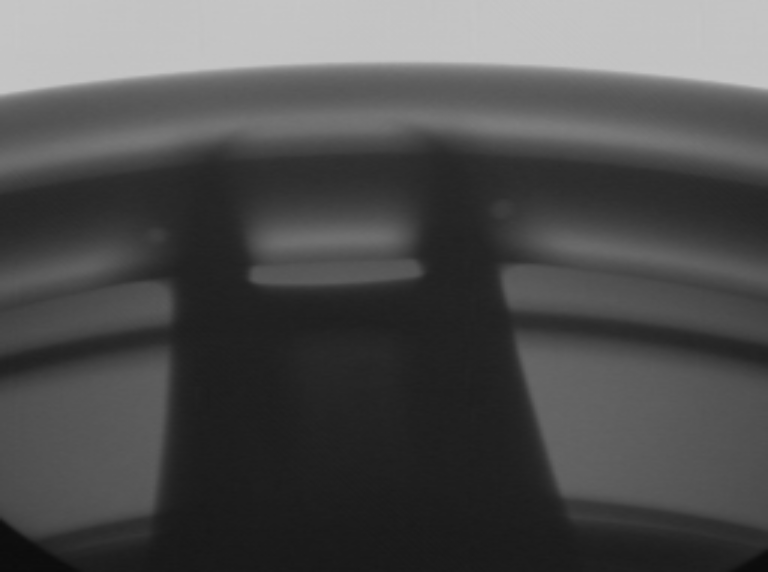defect: (132, 217, 180, 252)
